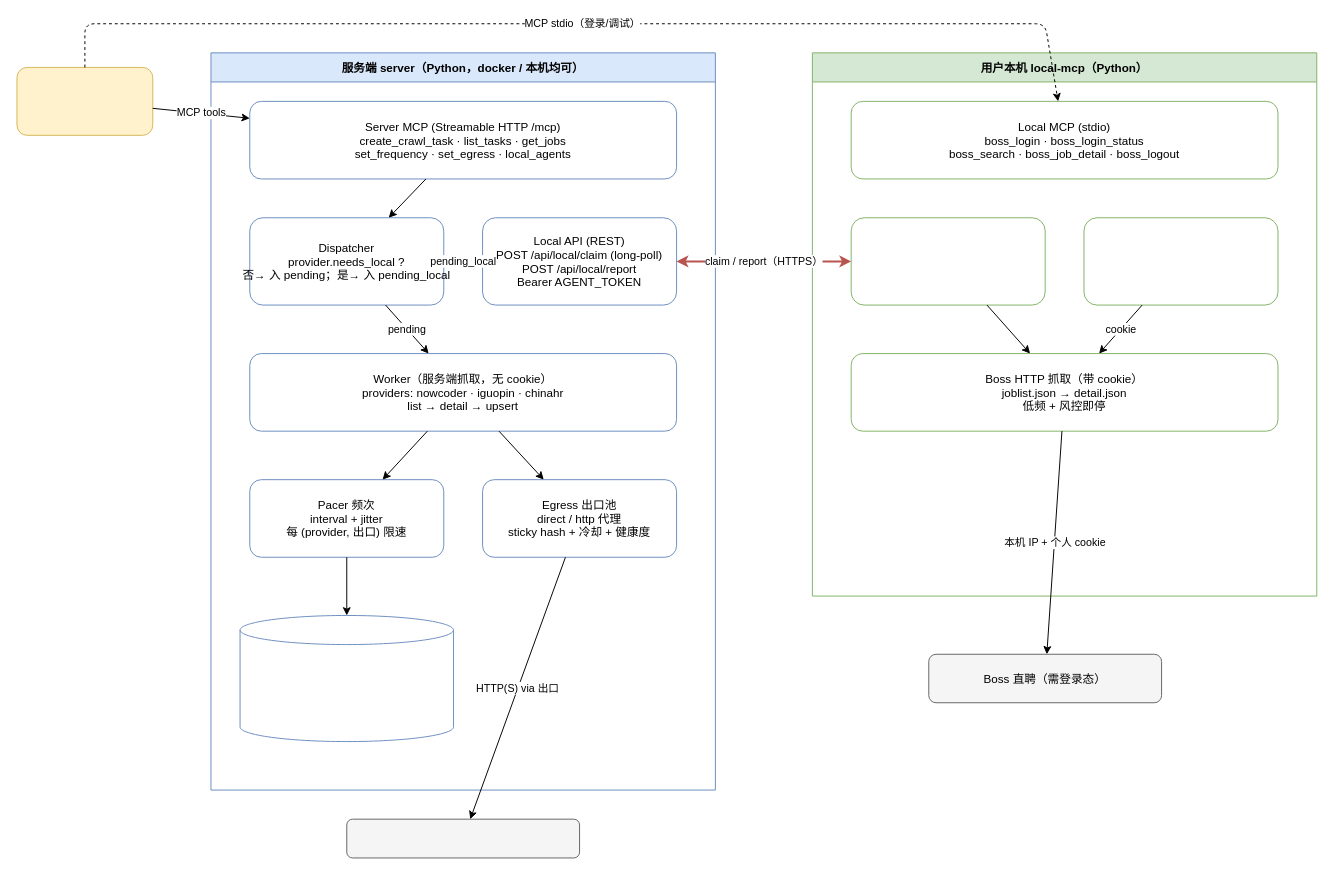
This 1334x875 diagram has some shape labels left out. The centre of each missing label's shape, as x and y in pixels:
AI 客户端 （MCP）: (x=84, y=100)
Playwright 持久化 profile 扫码登录 → cookies.json （0600，仅本机，不上报）: (x=1180, y=261)
SQLite（默认）/ 可换 Postgres tasks · jobs · egress · egress_health · agents: (x=346, y=678)
Sync loop claim → 执行 → report （出站连接，穿 NAT）: (x=947, y=261)
公开招聘站点 nowcoder / iguopin / chinahr: (x=463, y=838)
